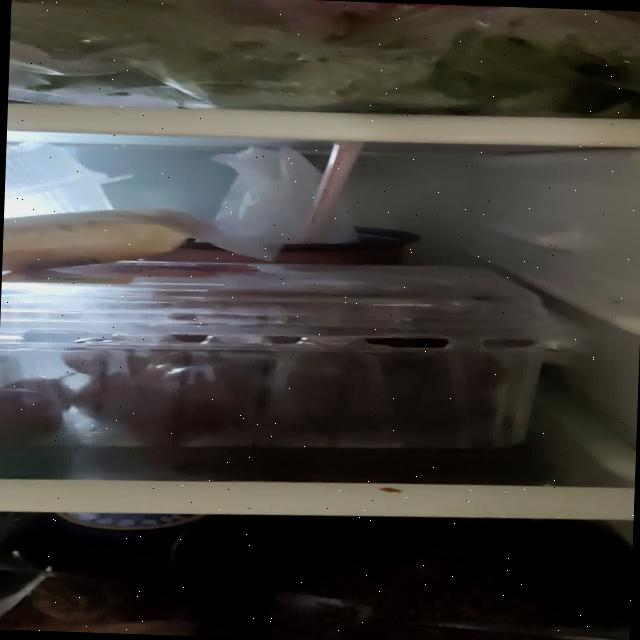grape: (0, 280, 518, 460)
